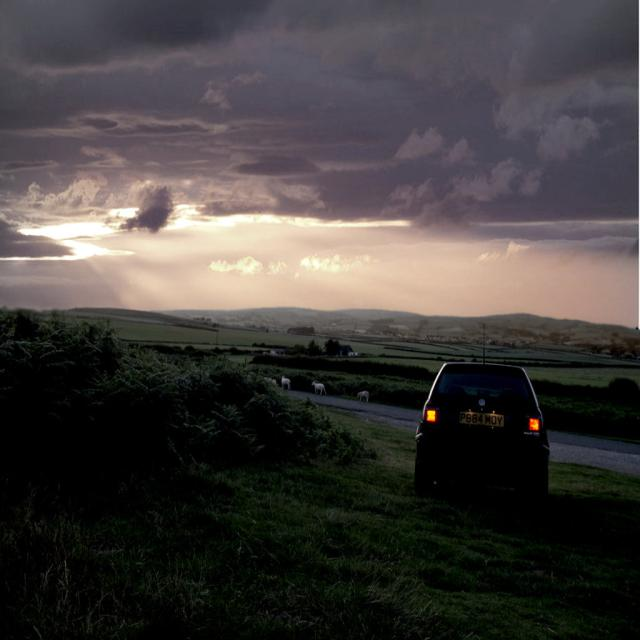Car: (419, 359, 553, 501)
